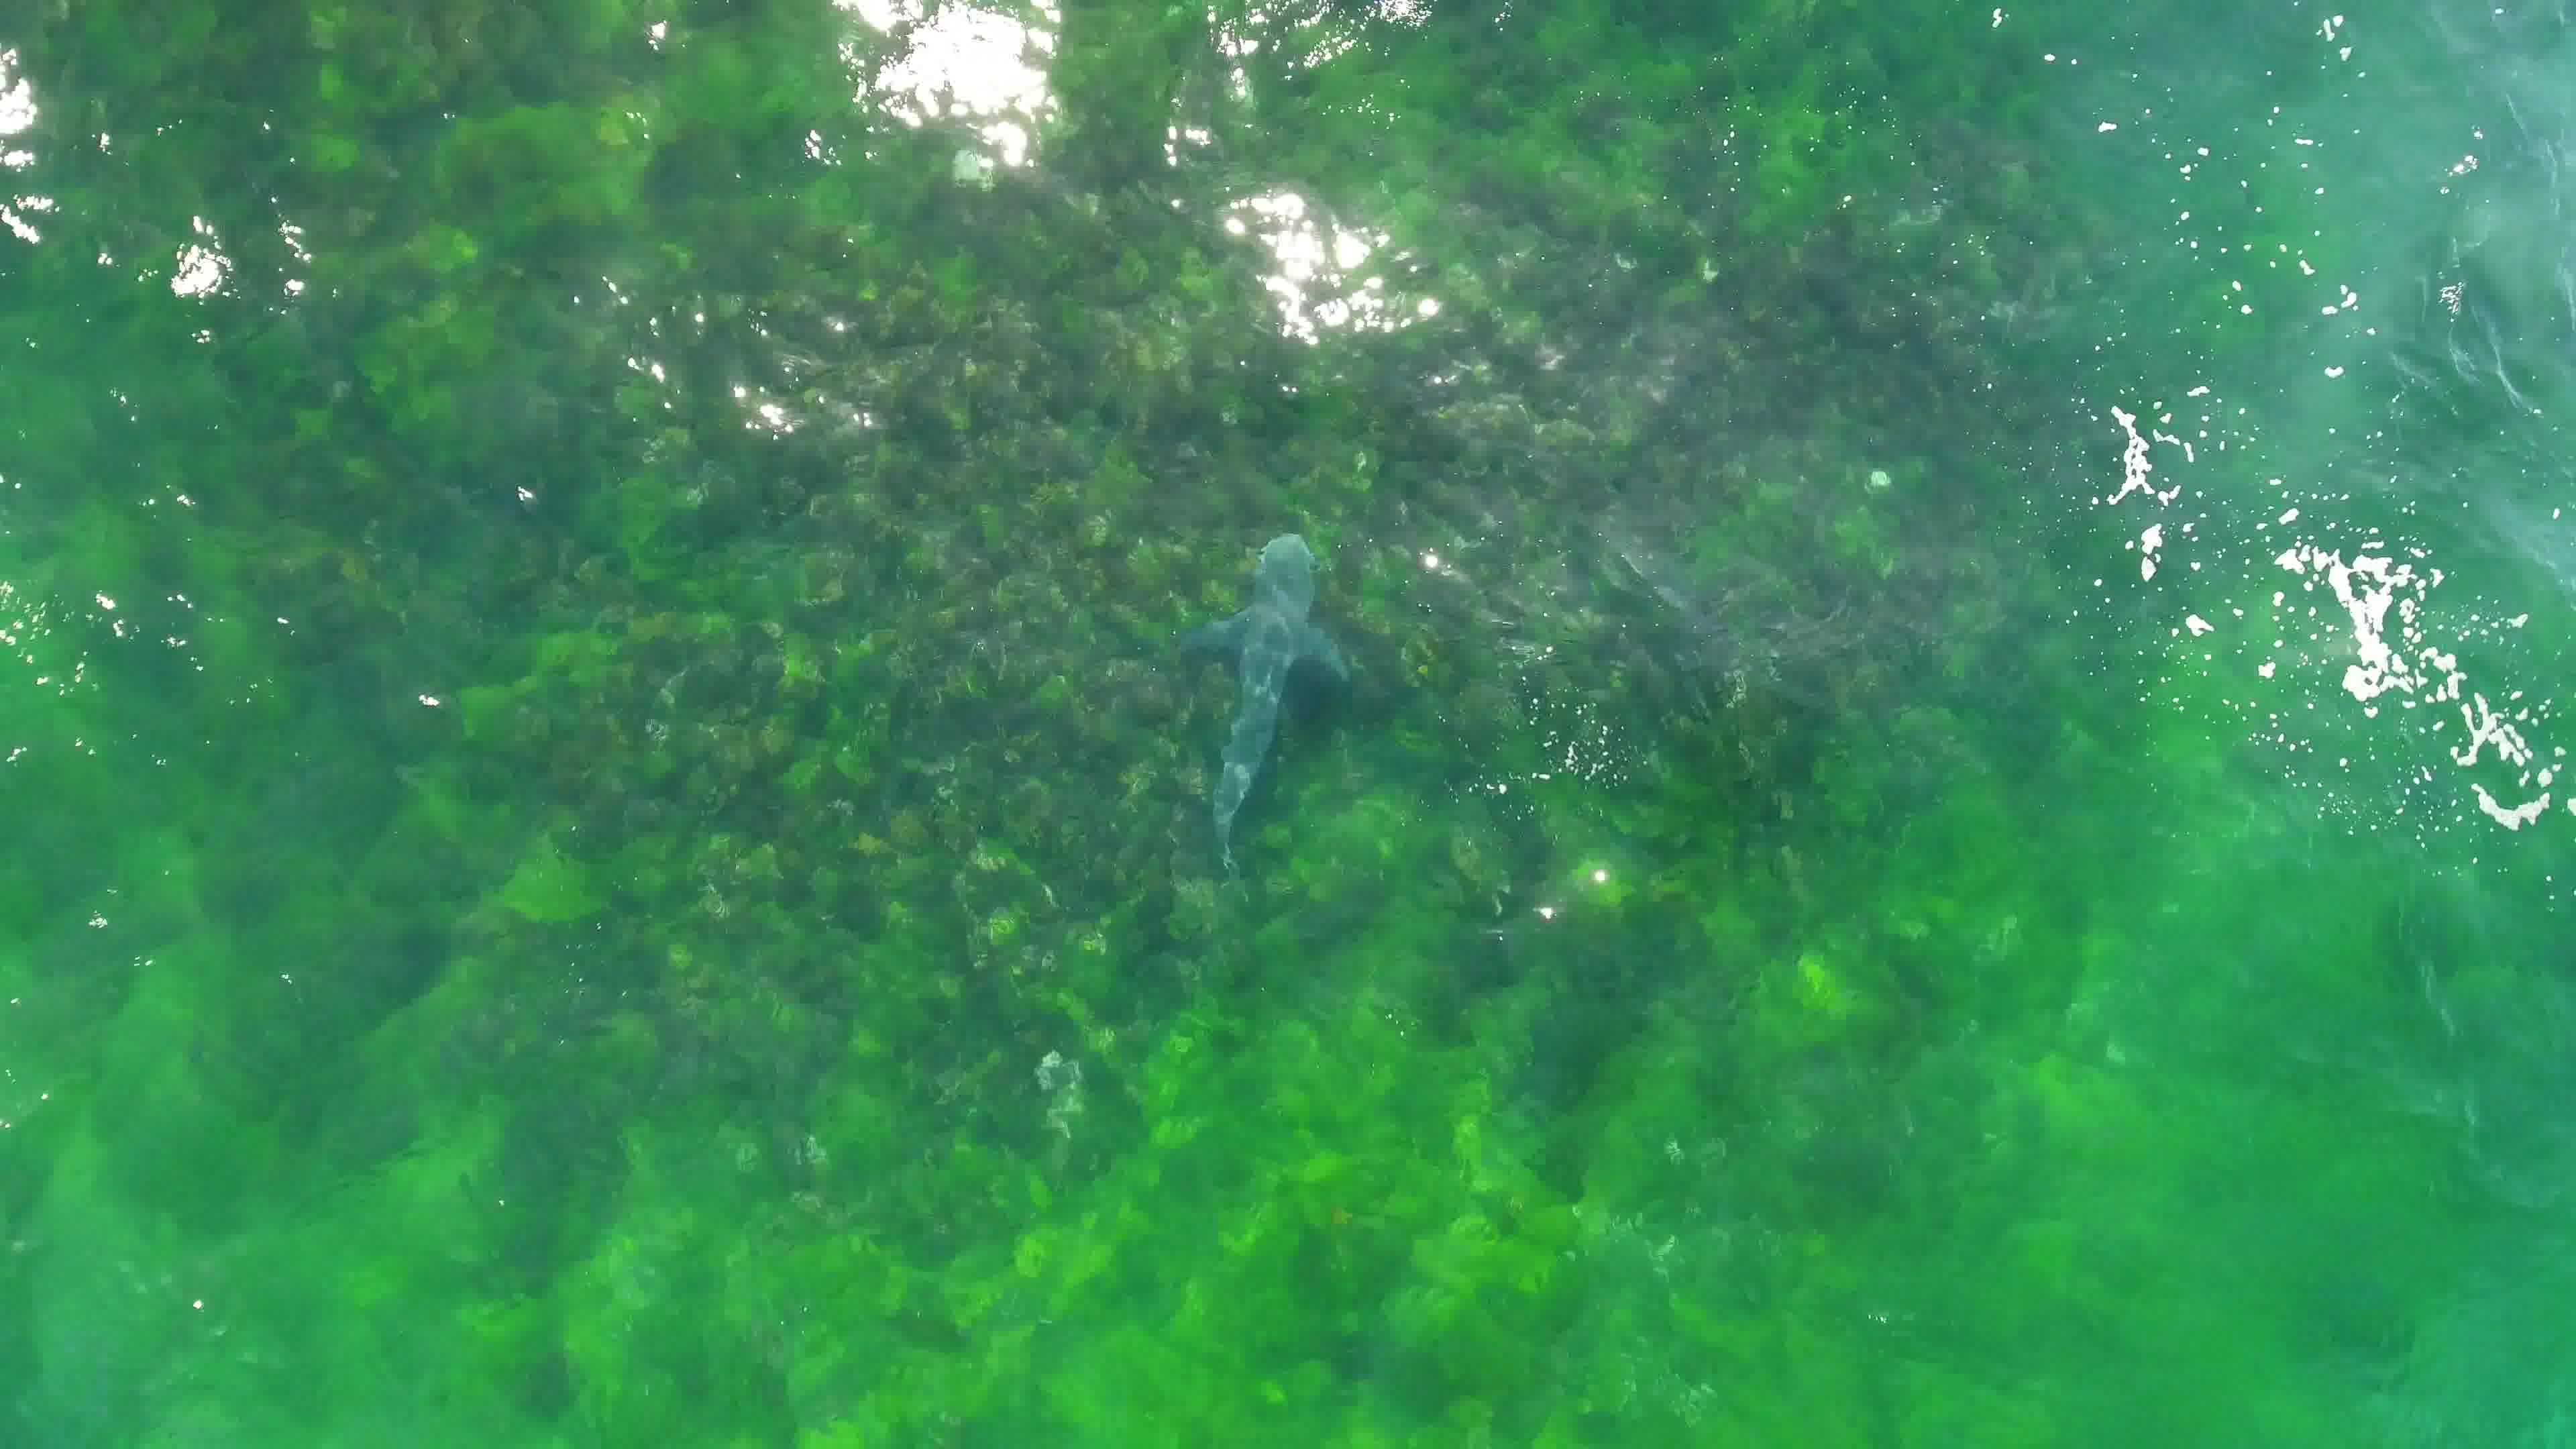shark: (1171, 525, 1359, 883)
